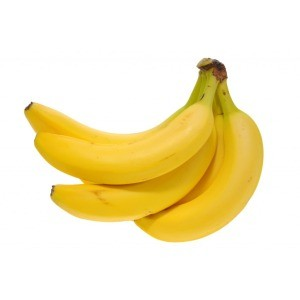banana_brain food: (115, 98, 235, 243)
